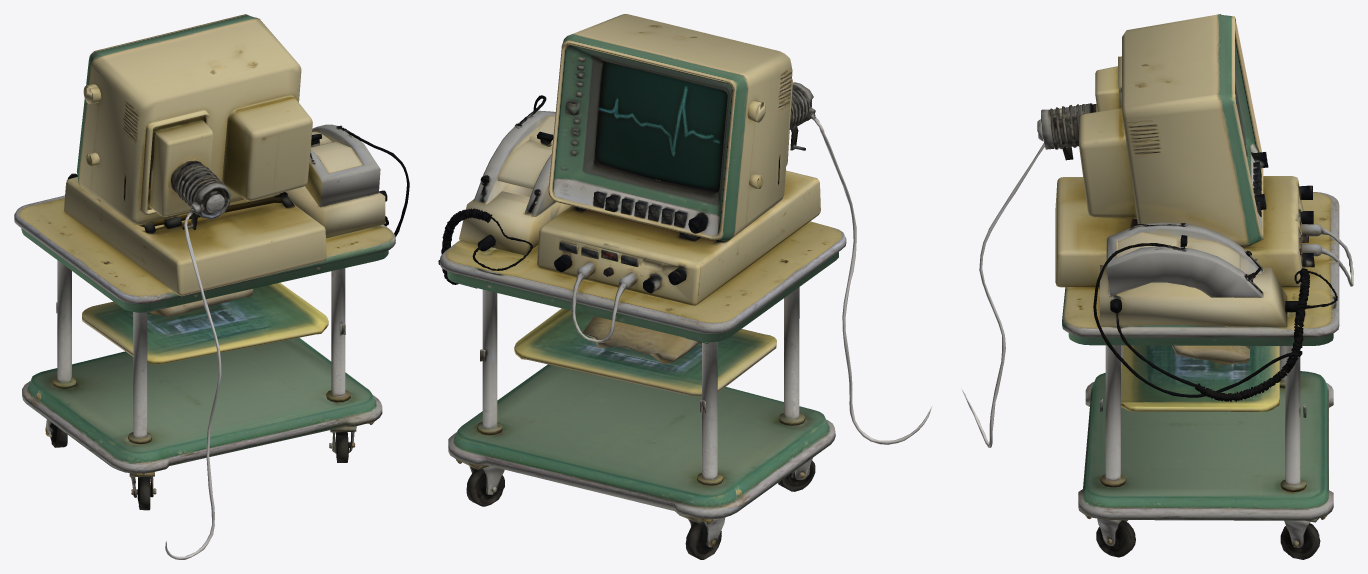
File: theme-ecg-cart-v05.glb
3 views of the same model, side by side, from view 1: azimuth 30°, elevation 25°; view 2: azimuth 150°, elevation 25°; view 3: azimuth 270°, elevation 25° (orthographic). The views are drawn at different scales.
Visible parts, largest first — view 1: tripo_node_f4ca9e09-9961-43c5-9189-cff5e8f8a096; view 2: tripo_node_f4ca9e09-9961-43c5-9189-cff5e8f8a096; view 3: tripo_node_f4ca9e09-9961-43c5-9189-cff5e8f8a096.
Boxes of the visible parts, x1=… form: tripo_node_f4ca9e09-9961-43c5-9189-cff5e8f8a096: x1=14, y1=14, x2=409, y2=559; tripo_node_f4ca9e09-9961-43c5-9189-cff5e8f8a096: x1=438, y1=14, x2=932, y2=559; tripo_node_f4ca9e09-9961-43c5-9189-cff5e8f8a096: x1=962, y1=14, x2=1353, y2=559.
Bounding box in the file's own units: 0.9464 × 1.2 × 0.9699.
1 material, 1 textured.
